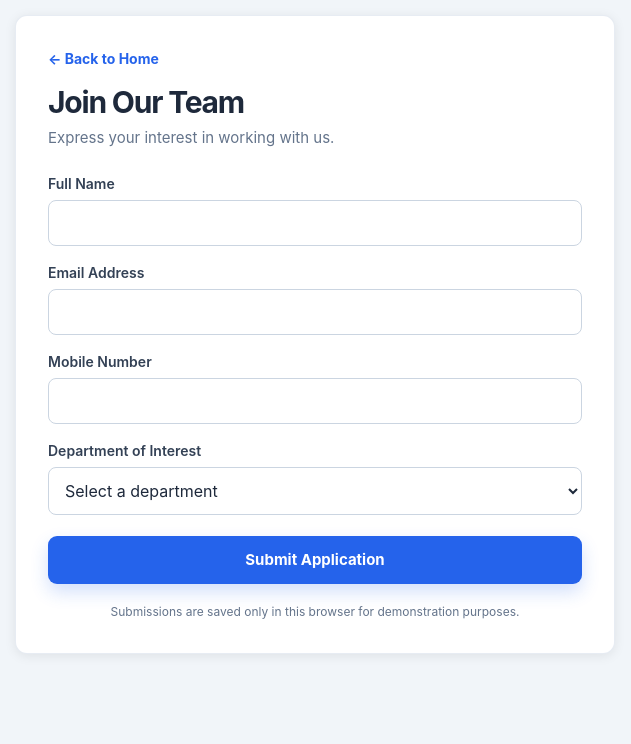
Test: candidate interest form › rejects overlong and nonalphabetic names, malformed email, and invalid mobile digits
In the field labelled "Full Name": (315, 222) [48,200,582,246], type "Jordan Lee-2"
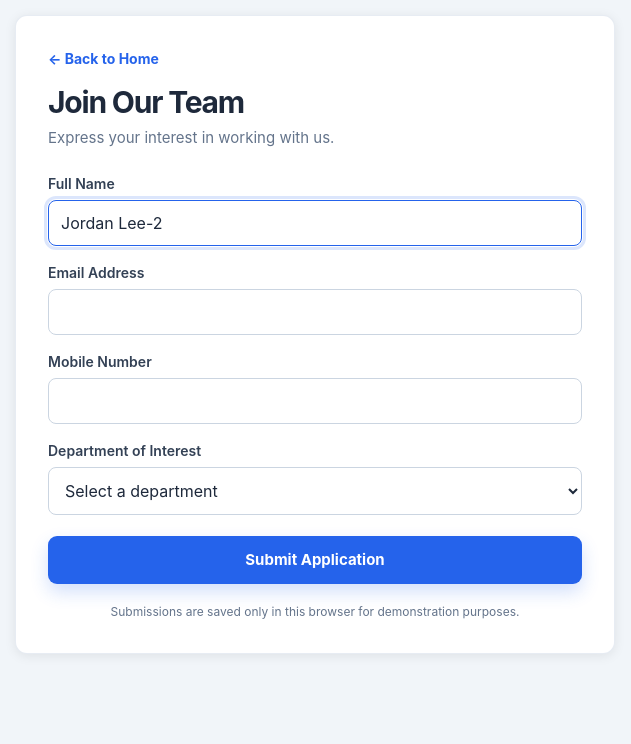
In the field labelled "Email Address": (315, 312) [48,288,582,334], type "not-an-address"
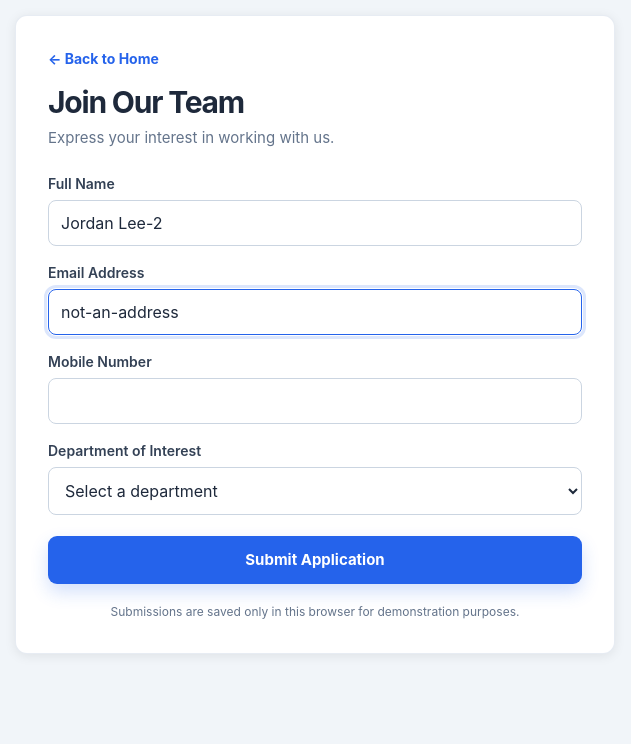
In the field labelled "Mobile Number": (315, 400) [48,378,582,424], type "12345678901"
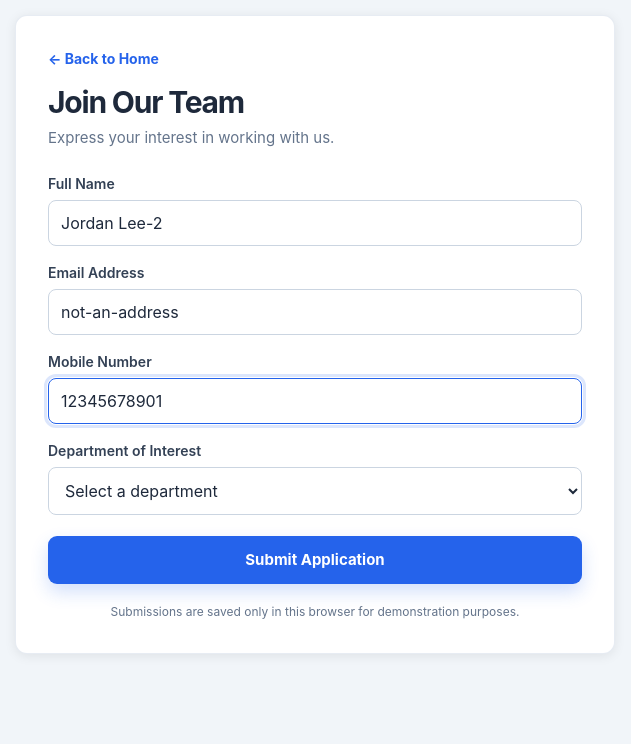
Select "Engineering" in the dropdown labelled "Department of Interest": (315, 490) [48,466,582,514]
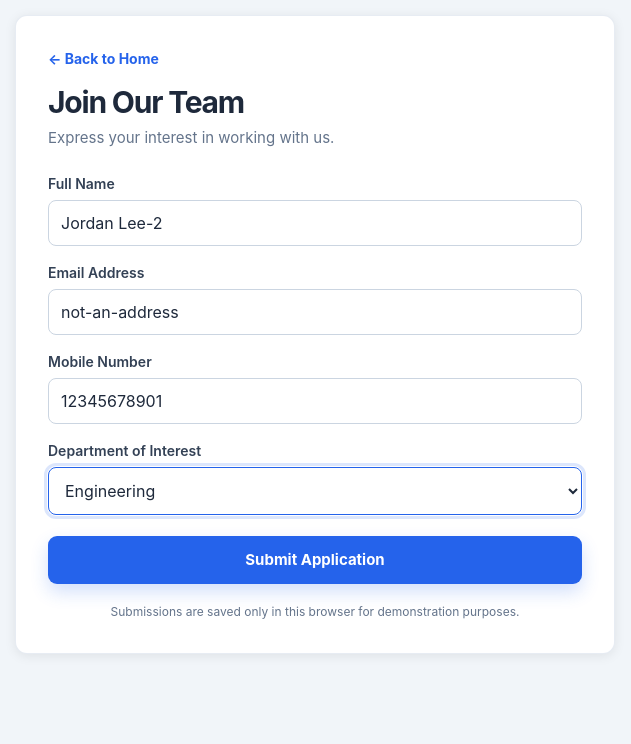
Click the button "Submit Application": (315, 560) [48,536,582,584]
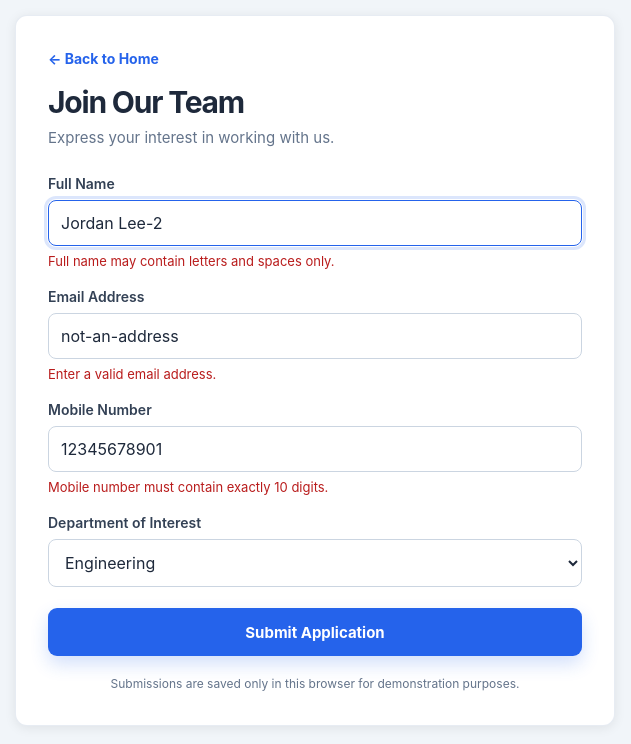
Check: the text "Full name may contain letters and spaces only." is shown, box [48,252,335,268]
Check: the text "Enter a valid email address." is shown, box [48,366,216,382]
Check: the text "Mobile number must contain exactly 10 digits." is shown, box [48,479,328,495]
